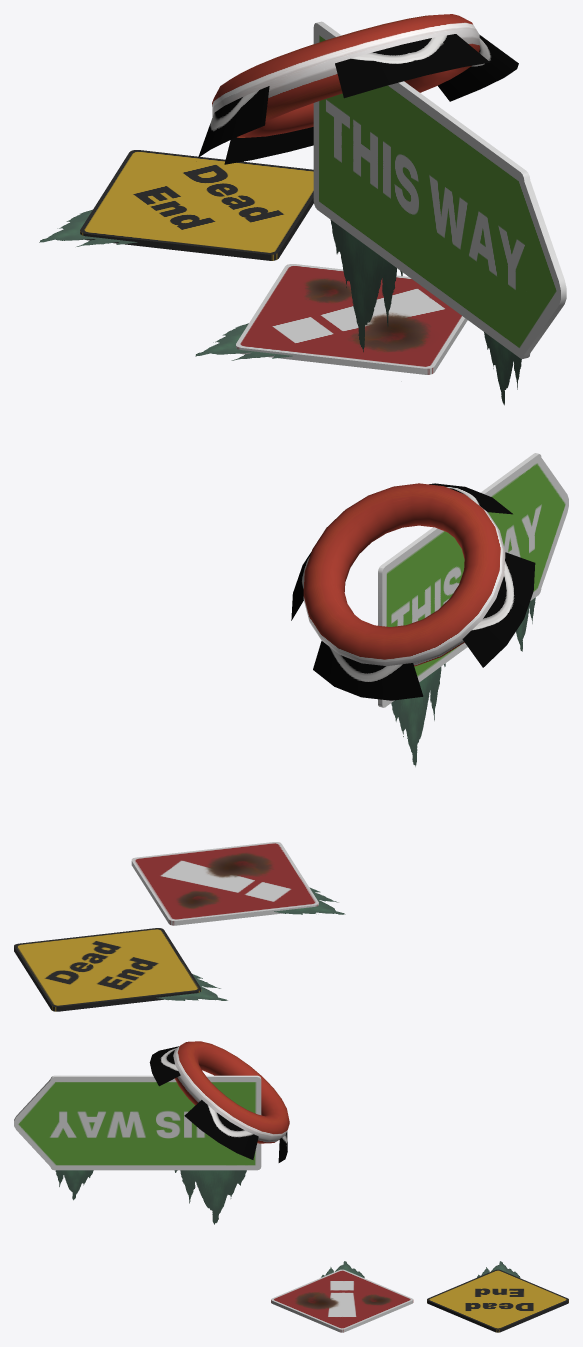
The model's file is CorrectWaySign.fbx.
The picture shows the model from 3 angles, top to bottom: view 1: azimuth 30°, elevation 25°; view 2: azimuth 150°, elevation 25°; view 3: azimuth 270°, elevation 25°; orthographic projection. The views are drawn at different scales.
Visible parts, largest first — view 1: Torus, Underwater Sign 3, Underwater Sign; view 2: Torus, Underwater Sign, Underwater Sign 3; view 3: Torus, Underwater Sign, Underwater Sign 3.
Boxes of the visible parts, x1,y1,x2,y2 form: Torus: (198,14,566,405); Underwater Sign 3: (39,150,313,260); Underwater Sign: (195,264,467,374); Torus: (291,453,568,766); Underwater Sign: (131,842,345,925); Underwater Sign 3: (14,928,227,1011); Torus: (14,1041,289,1224); Underwater Sign: (271,1261,413,1332); Underwater Sign 3: (427,1261,568,1332).
Bounding box in the file's own units: 2815 × 3013 × 6842.
